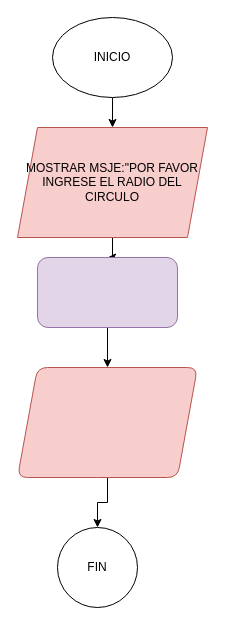
The diagram is 225 pixels wide and 625 high, and some of its shapes have lost their labels. The centre of each missing label's shape, as x and y in pixels:
DEFINIR Y ASIGNAR A LA VARIABLE AREA EL RESULTADO DE π**RADIO^2: (x=107, y=292)
MOSTRAS MSJE: "EL AREA DEL CIRCULO CON RADIO", RADIO "ES", AREA: (x=107, y=422)
